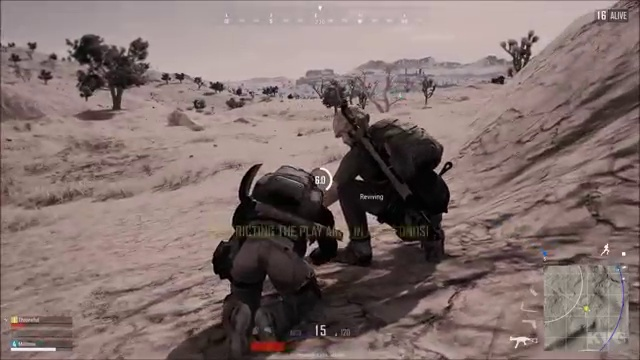Player: (176, 136, 326, 299), (326, 101, 464, 258)
